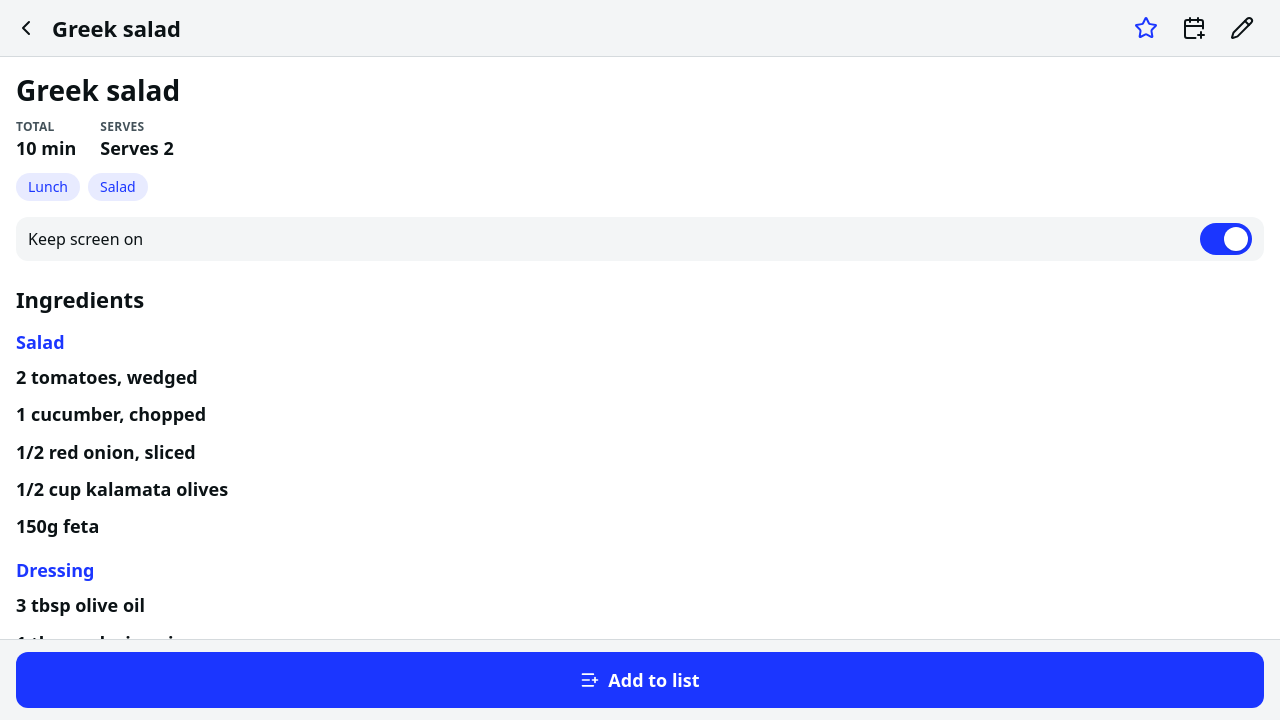
Test case: smart Add to list › reopens instantly from the session cache and refreshes on request (D-116)
The width and height of the screenshot is (1280, 720).
Click the button "Add to list": (640, 680) x1=16 y1=652 x2=1264 y2=708
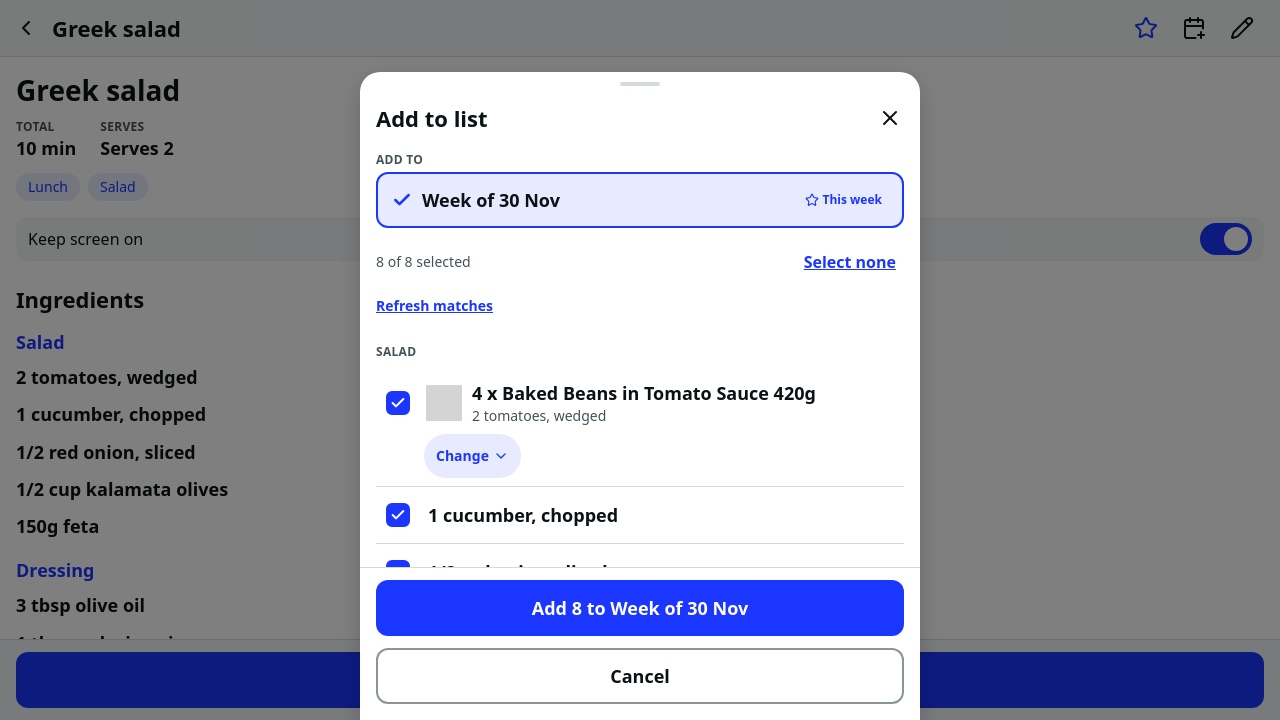
Check: the radio button labelled "Week of 30 Nov This week" is shown, box x1=376 y1=172 x2=904 y2=228
Click the button "Cancel": (640, 676) x1=376 y1=648 x2=904 y2=704
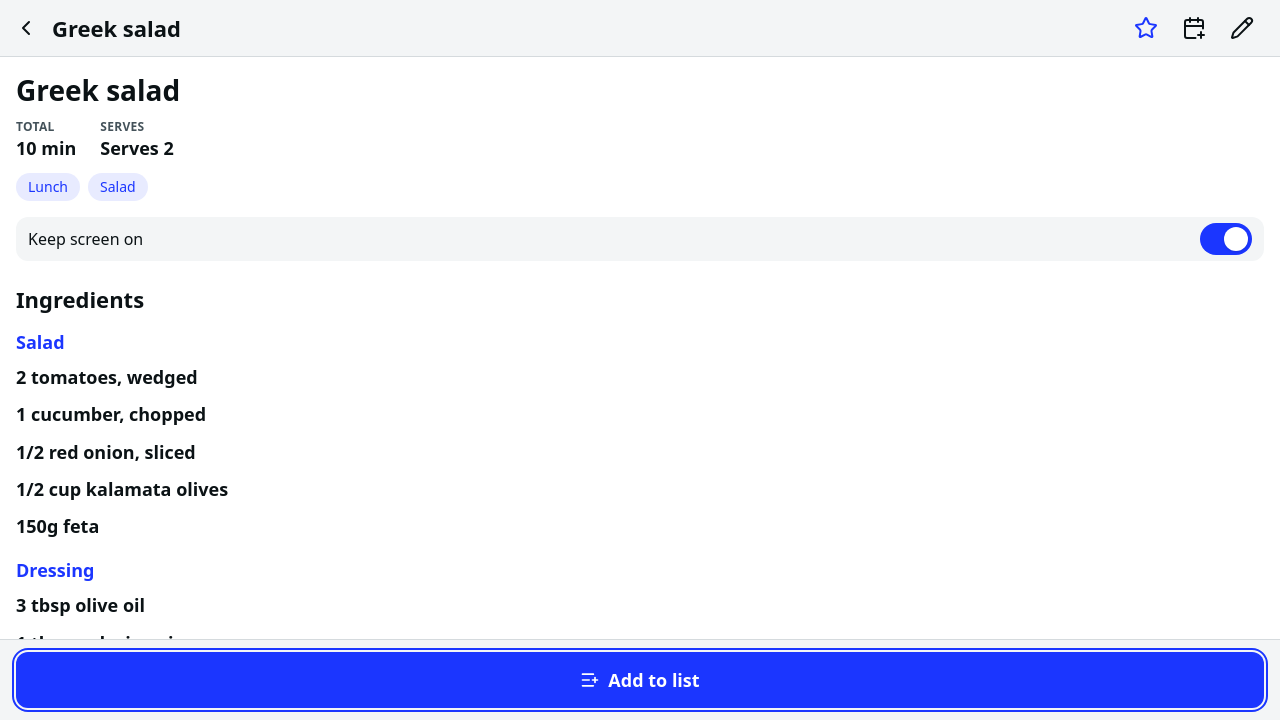
Check: the dialog is gone
Click the button "Add to list": (640, 680) x1=16 y1=652 x2=1264 y2=708
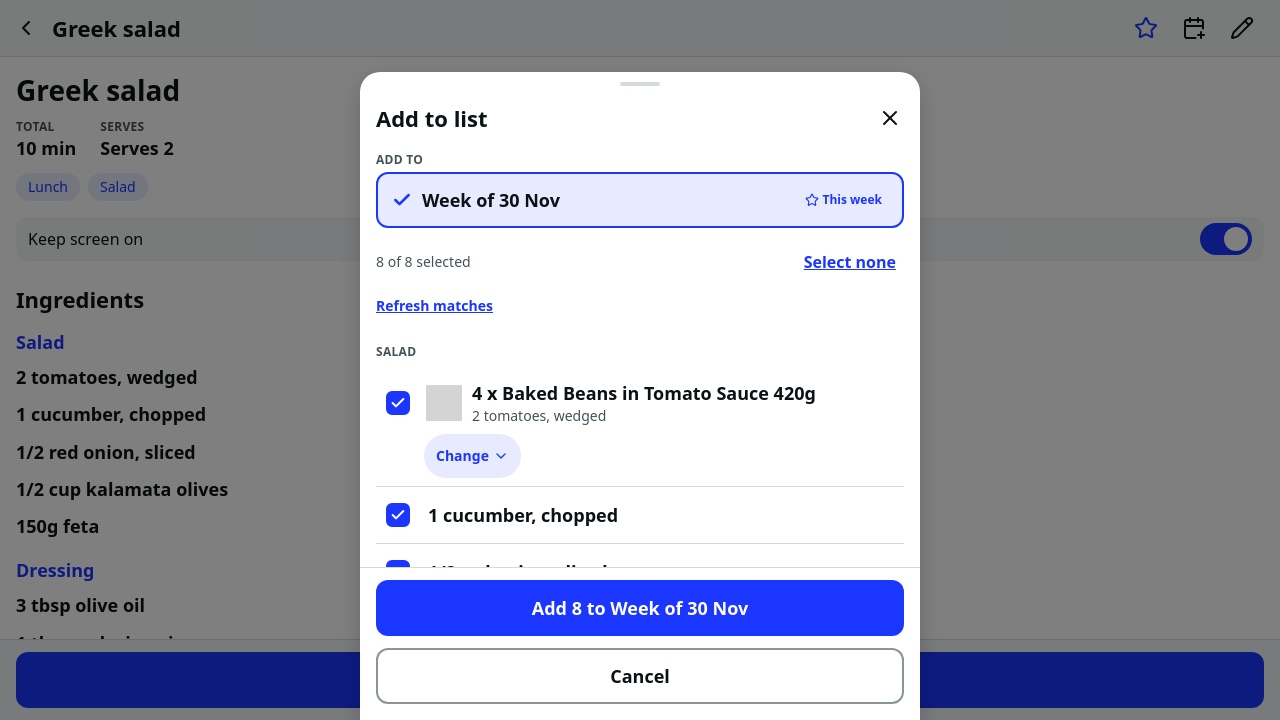
Click the button "Refresh matches": (434, 306) x1=376 y1=284 x2=493 y2=328
(page scrolled)
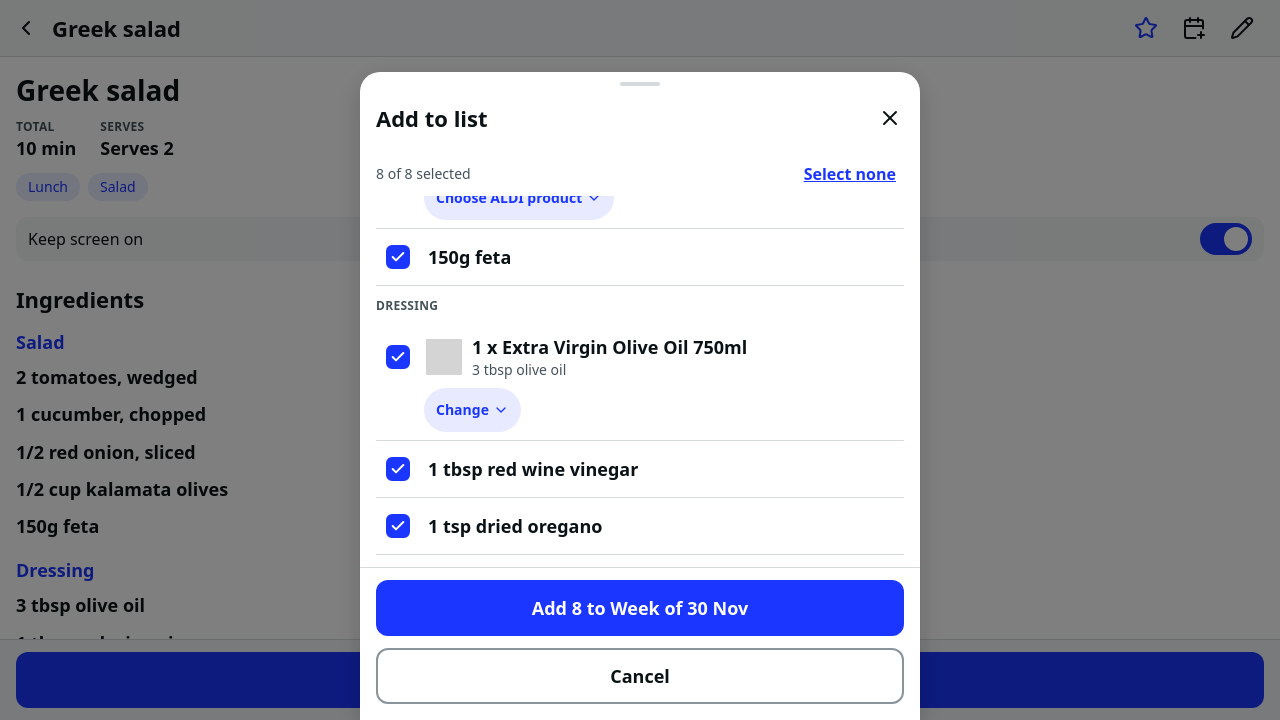
Check: the checkbox labelled "1 x Extra Virgin Olive Oil 750ml 3 tbsp olive oil" is shown, box x1=376 y1=326 x2=904 y2=388
